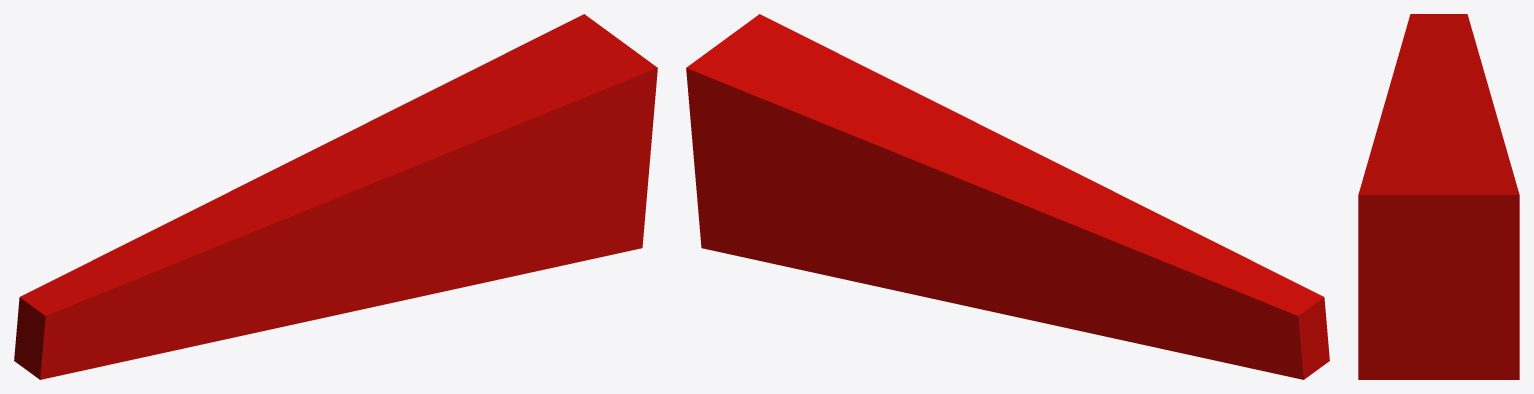
Rendered from Tanknadel_prefab.fbx.
3 views of the same model, side by side, from view 1: azimuth 30°, elevation 25°; view 2: azimuth 150°, elevation 25°; view 3: azimuth 270°, elevation 25° (orthographic). The views are drawn at different scales.
Visible parts, largest first — view 1: Zeiger; view 2: Zeiger; view 3: Zeiger.
Part boxes in pixels (<box>): Zeiger: <box>14,14,657,379</box>; Zeiger: <box>686,14,1329,379</box>; Zeiger: <box>1358,14,1519,379</box>.
Bounding box in the file's own units: 3.57 × 1.06 × 0.7654.
